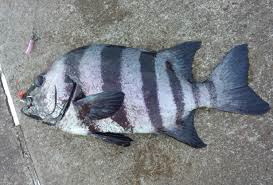azi: (13, 39, 238, 149)
